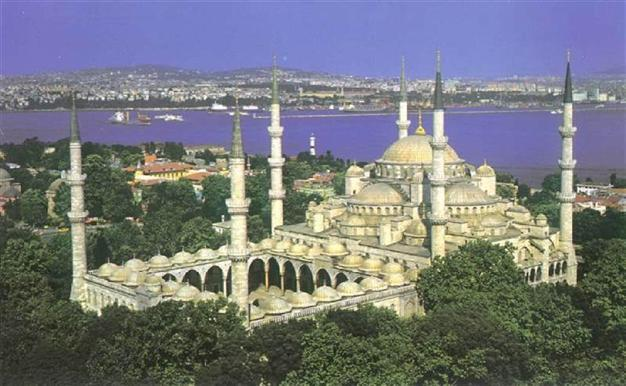Mosque: (58, 69, 584, 327)
